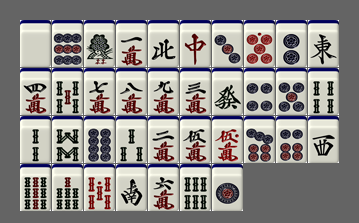0m: (212, 116, 243, 163)
0p: (244, 20, 275, 67)
0s: (84, 164, 115, 211)
1m: (116, 20, 147, 67)
1p: (212, 164, 243, 211)
1s: (84, 20, 115, 67)
1z: (308, 20, 339, 67)
2m: (148, 116, 179, 163)
2p: (276, 20, 307, 67)
2s: (20, 116, 51, 163)
2z: (116, 164, 147, 211)
3m: (180, 68, 211, 115)
3p: (212, 20, 243, 67)
3s: (116, 116, 147, 163)
3z: (308, 116, 339, 163)
4m: (20, 68, 51, 115)
4p: (244, 68, 275, 115)
4s: (308, 68, 339, 115)
4z: (148, 20, 179, 67)
5m: (180, 116, 211, 163)
5p: (276, 68, 307, 115)
5s: (52, 68, 83, 115)
5z: (20, 20, 51, 67)
6m: (148, 164, 179, 211)
6p: (276, 116, 307, 163)
6s: (180, 164, 211, 211)
6z: (212, 68, 243, 115)
7m: (84, 68, 115, 115)
7p: (244, 116, 275, 163)
7s: (52, 164, 83, 211)
7z: (180, 20, 211, 67)
8m: (116, 68, 147, 115)
8p: (84, 116, 115, 163)
8s: (52, 116, 83, 163)
9m: (148, 68, 179, 115)
9p: (52, 20, 83, 67)
9s: (20, 164, 51, 211)
